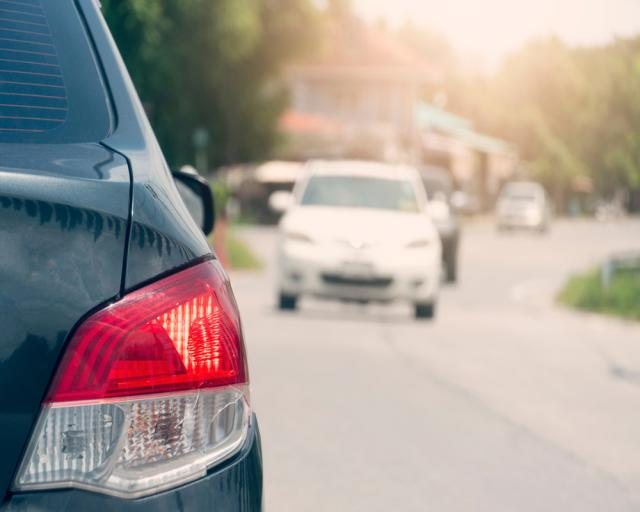lamp broken: (9, 259, 254, 499)
